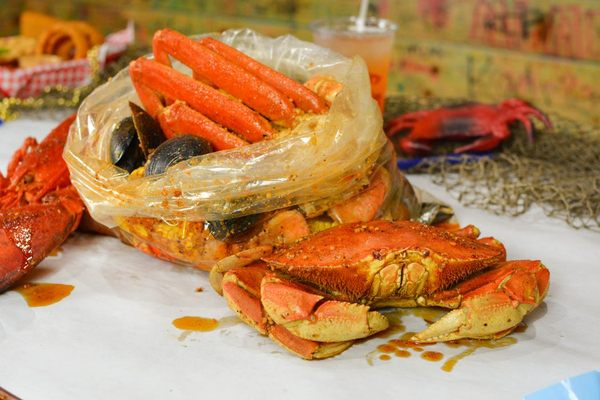pizza: (311, 13, 398, 113)
soup: (60, 26, 410, 271), (210, 217, 553, 361)
